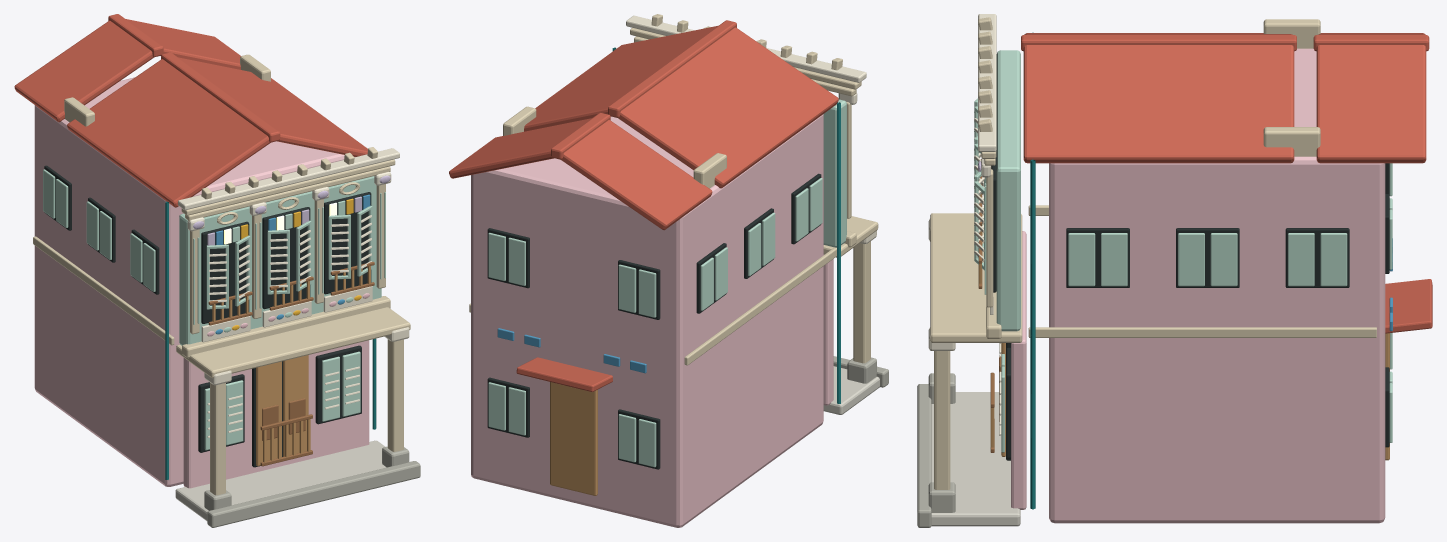
Rendered from peranakan-house-v2.glb.
3 renders of one model, left to right at view 1: azimuth 30°, elevation 25°; view 2: azimuth 150°, elevation 25°; view 3: azimuth 270°, elevation 25°, orthographic. The views are drawn at different scales.
Parts seen in each view (by area): view 1: PERANAKAN TERRACE HOUSE · Ceramic tile blue; view 2: PERANAKAN TERRACE HOUSE · Ceramic tile blue; view 3: PERANAKAN TERRACE HOUSE · Ceramic tile blue.
Part boxes in pixels (x1=…): PERANAKAN TERRACE HOUSE · Ceramic tile blue: x1=14, y1=14, x2=420, y2=527; PERANAKAN TERRACE HOUSE · Ceramic tile blue: x1=449, y1=14, x2=888, y2=527; PERANAKAN TERRACE HOUSE · Ceramic tile blue: x1=917, y1=14, x2=1432, y2=527.
Bounding box in the file's own units: 4.42 × 6.67 × 7.27.
Materials: 2 (2 with a texture image).
